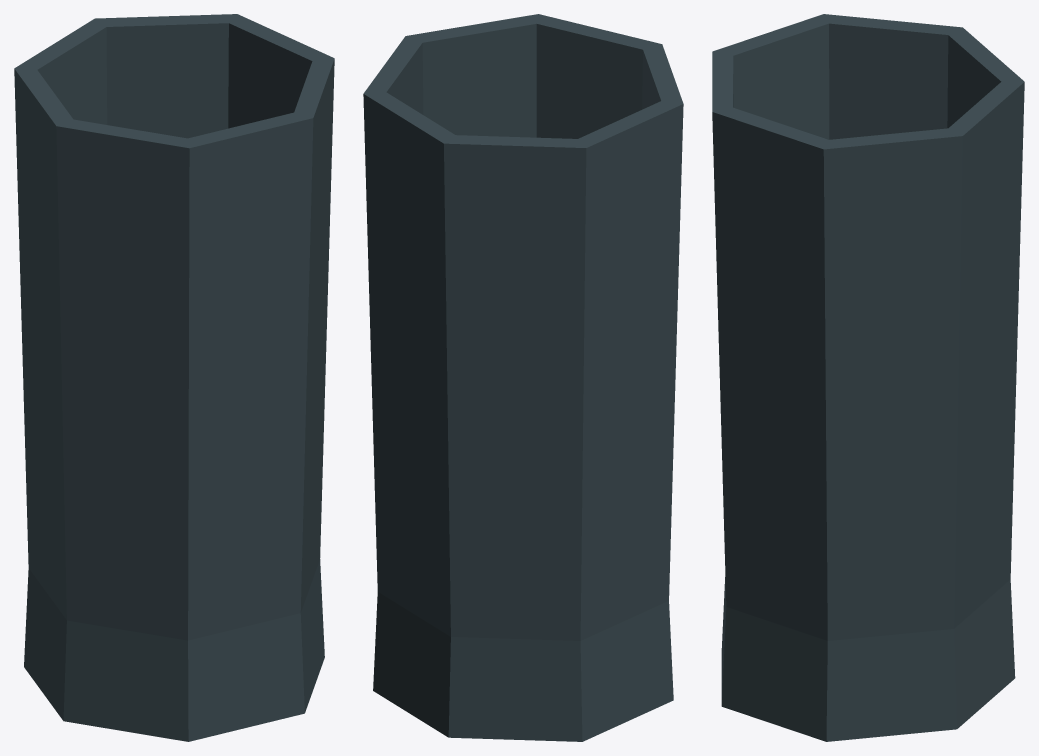
The model's file is food_glass-drink.fbx.
The picture shows the model from 3 angles, left to right: view 1: azimuth 30°, elevation 25°; view 2: azimuth 150°, elevation 25°; view 3: azimuth 270°, elevation 25°; orthographic projection.
Visible parts, largest first — view 1: food_glass_drink; view 2: food_glass_drink; view 3: food_glass_drink.
Boxes of the visible parts, x1,y1,x2,y2 form: food_glass_drink: [14, 14, 334, 741]; food_glass_drink: [363, 14, 683, 741]; food_glass_drink: [712, 14, 1024, 741].
Bounding box in the file's own units: 97.38 × 200 × 94.94.
